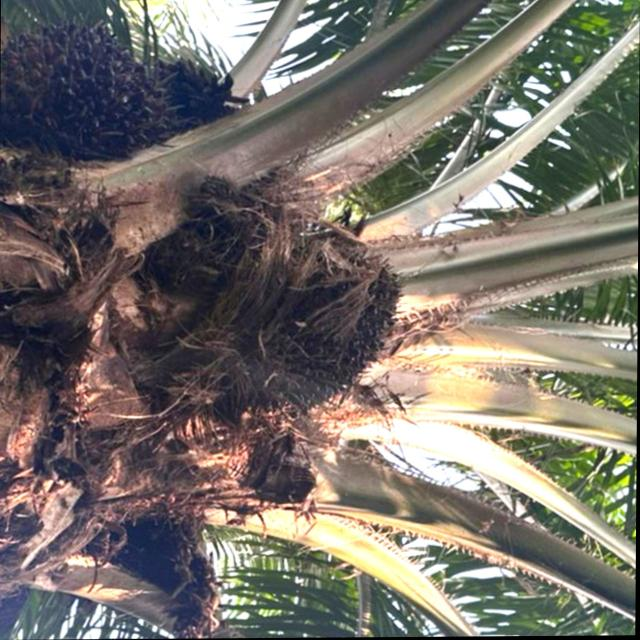unripe: (230, 225, 414, 430)
